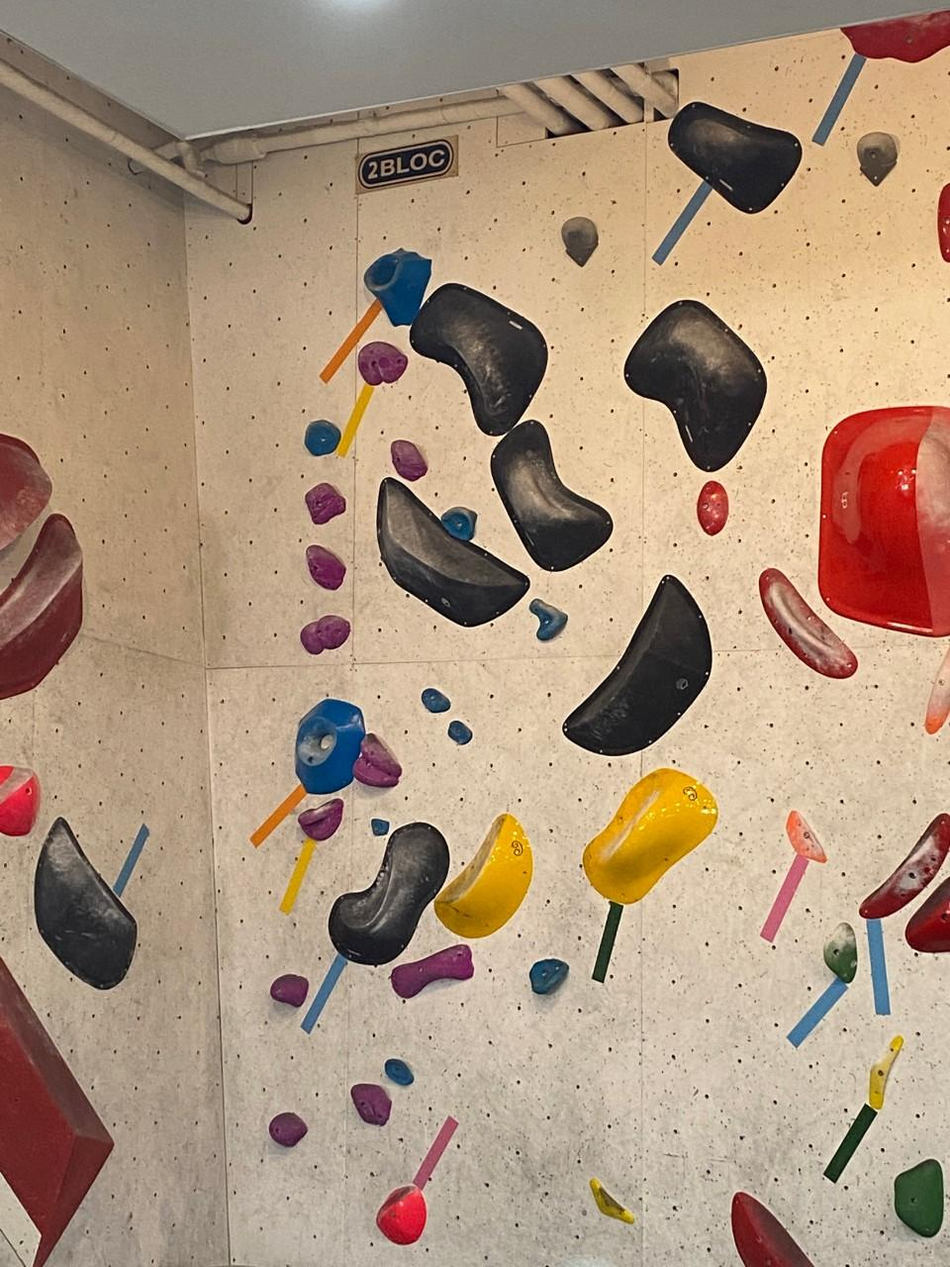hold: (817, 408, 949, 636), (563, 575, 710, 756), (623, 301, 766, 471), (377, 479, 526, 627), (410, 283, 547, 436), (583, 767, 717, 905), (491, 422, 613, 571), (35, 818, 136, 990), (330, 823, 448, 966), (0, 514, 82, 699), (668, 102, 802, 214), (434, 814, 532, 938), (759, 567, 857, 679), (860, 814, 949, 918), (295, 700, 367, 794), (731, 1192, 812, 1266), (0, 434, 51, 549), (842, 11, 949, 62), (364, 248, 430, 327), (391, 944, 475, 999), (894, 1159, 944, 1236), (905, 878, 949, 952), (376, 1186, 427, 1244), (0, 765, 40, 836), (354, 733, 400, 788), (869, 1036, 902, 1110), (358, 341, 408, 385), (924, 646, 949, 733), (857, 132, 896, 186), (786, 811, 825, 863), (823, 924, 857, 983), (590, 1179, 634, 1223), (301, 615, 350, 654), (298, 799, 342, 841), (561, 217, 598, 266), (697, 481, 728, 536), (306, 482, 345, 525), (306, 546, 345, 589), (351, 1084, 391, 1125), (391, 439, 428, 481), (529, 599, 567, 639), (530, 958, 569, 995), (304, 420, 340, 456), (269, 1113, 307, 1147), (272, 974, 309, 1008), (440, 507, 475, 540), (938, 184, 949, 262), (385, 1058, 413, 1086), (447, 720, 472, 744), (421, 690, 449, 711), (371, 819, 389, 835)
volume: (0, 959, 113, 1266)
